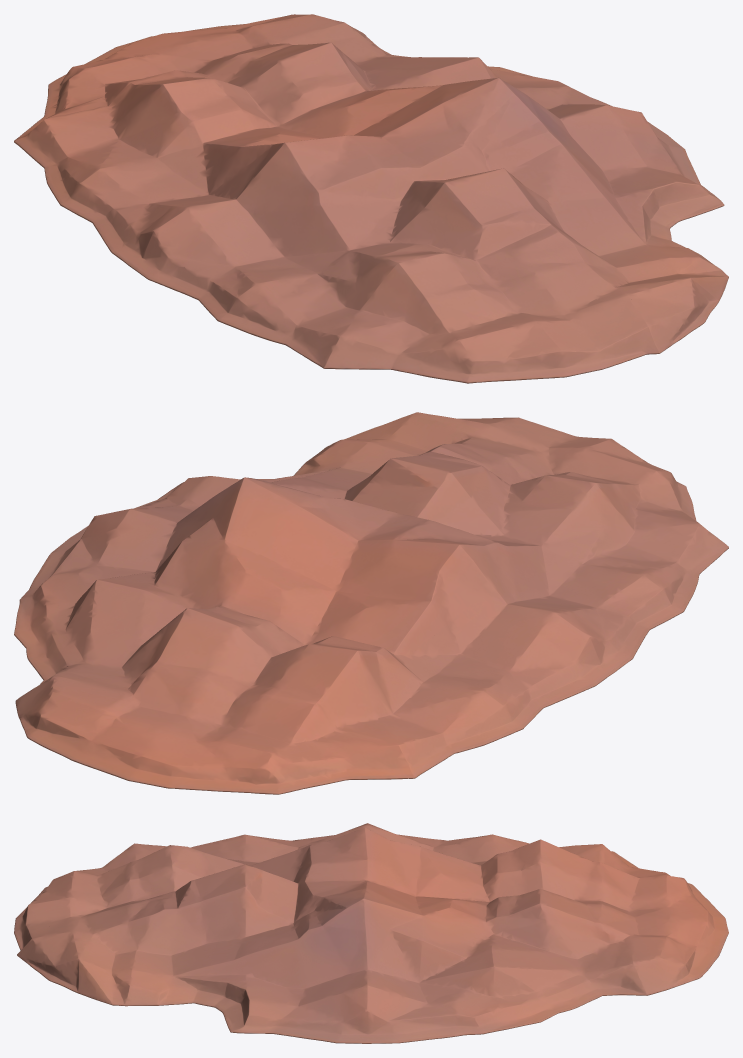
Rendered from desert+mountain+3d+model (1).glb.
The picture shows the model from 3 angles, top to bottom: view 1: azimuth 30°, elevation 25°; view 2: azimuth 150°, elevation 25°; view 3: azimuth 270°, elevation 25°; orthographic projection. The views are drawn at different scales.
Parts seen in each view (by area): view 1: tripo_node_a71fbd7d-18c1-444b-b824-934f2d6f8cc1; view 2: tripo_node_a71fbd7d-18c1-444b-b824-934f2d6f8cc1; view 3: tripo_node_a71fbd7d-18c1-444b-b824-934f2d6f8cc1.
Part boxes in pixels (x1,y1,x2,y2): tripo_node_a71fbd7d-18c1-444b-b824-934f2d6f8cc1: (14, 14, 728, 383); tripo_node_a71fbd7d-18c1-444b-b824-934f2d6f8cc1: (14, 412, 728, 794); tripo_node_a71fbd7d-18c1-444b-b824-934f2d6f8cc1: (14, 823, 728, 1043).
Size of the model in its own units: 0.6848 by 0.1236 by 1.
Materials: 1 (1 with a texture image).
